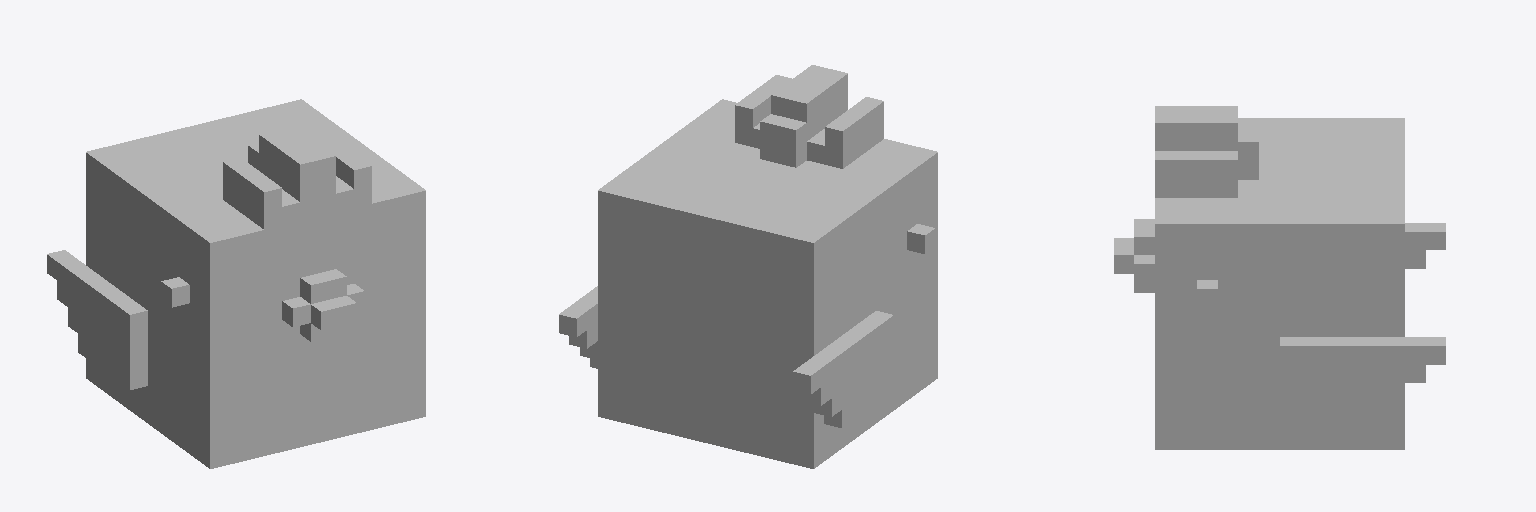
Rendered from bird.obj.
The picture shows the model from 3 angles: view 1: azimuth 30°, elevation 25°; view 2: azimuth 150°, elevation 25°; view 3: azimuth 270°, elevation 25°; orthographic projection.
Parts seen in each view (by area): view 1: bird; view 2: bird; view 3: bird.
Part boxes in pixels (bbox=[...]): bird: bbox=[47, 99, 425, 468]; bird: bbox=[559, 65, 937, 468]; bird: bbox=[1114, 106, 1445, 449].
Size of the model in its own units: 14 by 15 by 16.